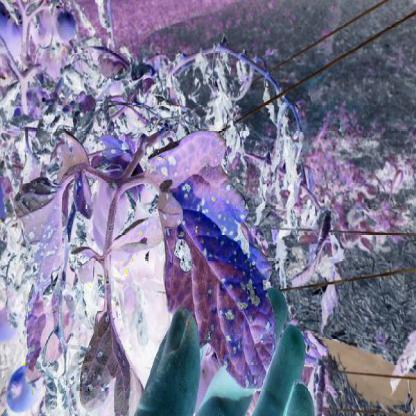Tomato Septoria leaf spot: (150, 125, 277, 389), (16, 164, 71, 289), (81, 311, 136, 402)
